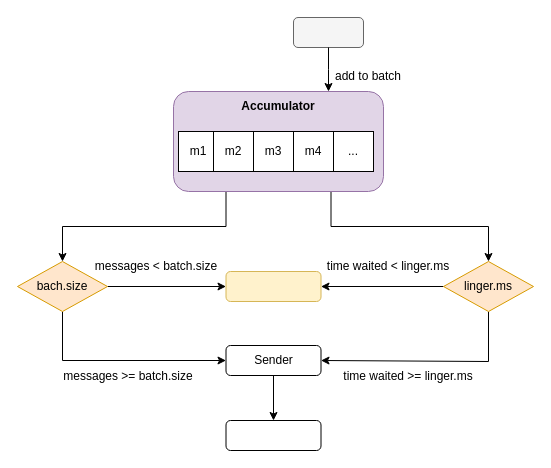
Some shapes in this 551 by 468 pixel diagram are drawn without their labels. The centre of each missing label's shape, as x and y in pixels:
Kafka Broker: (x=273, y=435)
Producer waits: (x=273, y=286)
Send: (x=328, y=32)
